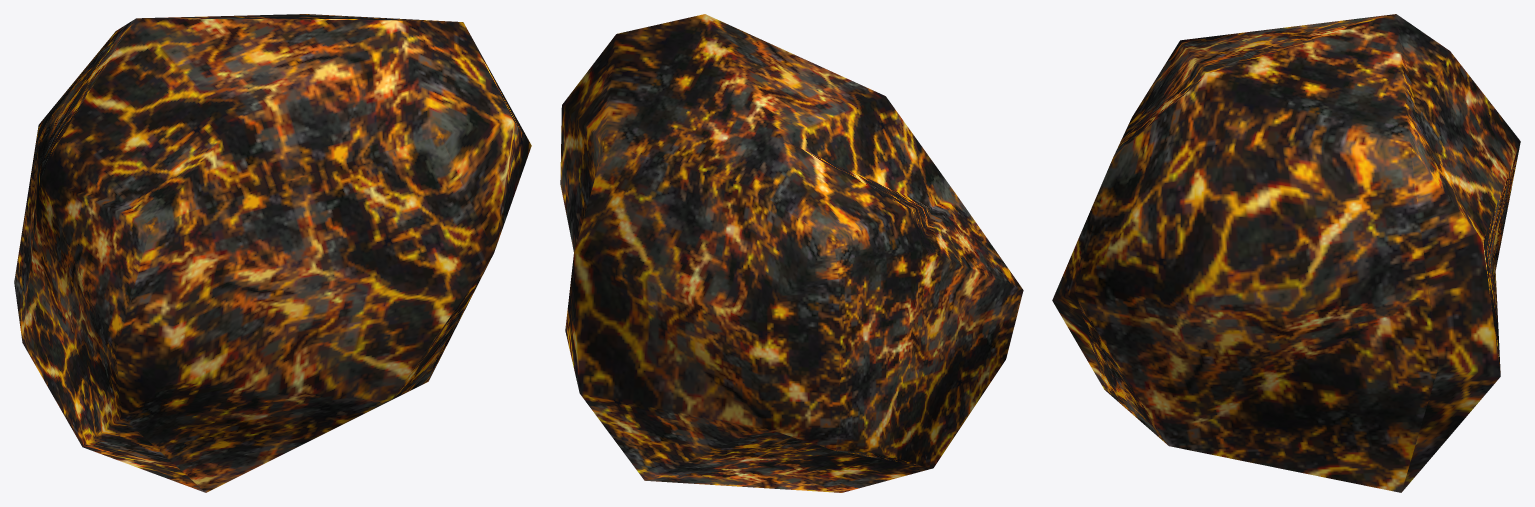
The model's file is asteroid_moltenrock_medium_s02_l3.fbx.
3 views of the same model, side by side, from view 1: azimuth 30°, elevation 25°; view 2: azimuth 150°, elevation 25°; view 3: azimuth 270°, elevation 25° (orthographic). The views are drawn at different scales.
Visible parts, largest first — view 1: mesh_node; view 2: mesh_node; view 3: mesh_node.
Part boxes in pixels (bbox=[...]): mesh_node: bbox=[14, 14, 531, 492]; mesh_node: bbox=[560, 14, 1023, 492]; mesh_node: bbox=[1052, 14, 1520, 492].
Size of the model in its own units: 73.51 by 72.01 by 65.78.
